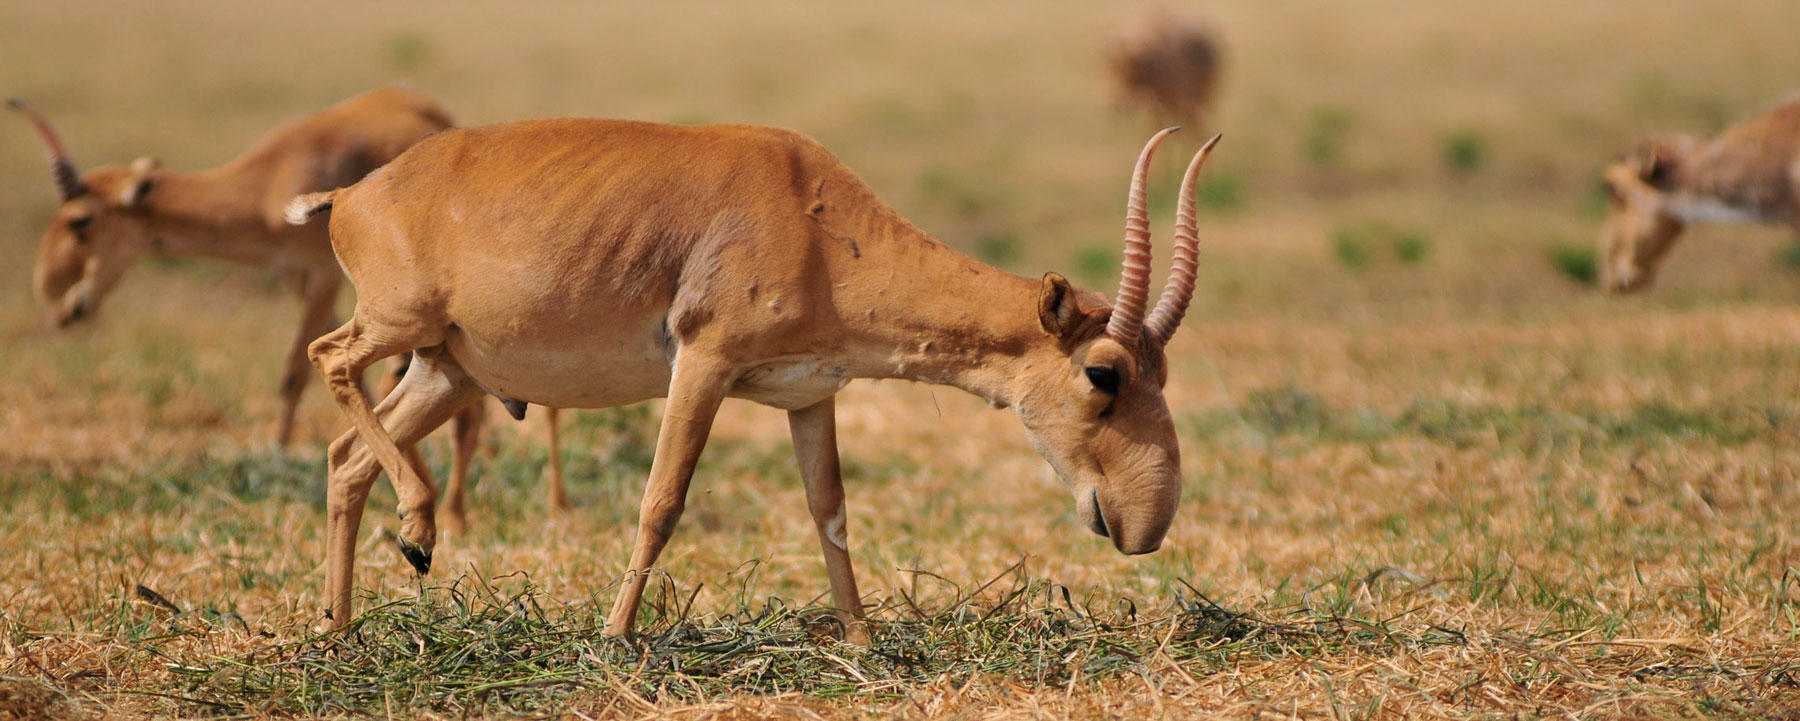saiga: (256, 113, 1232, 679)
